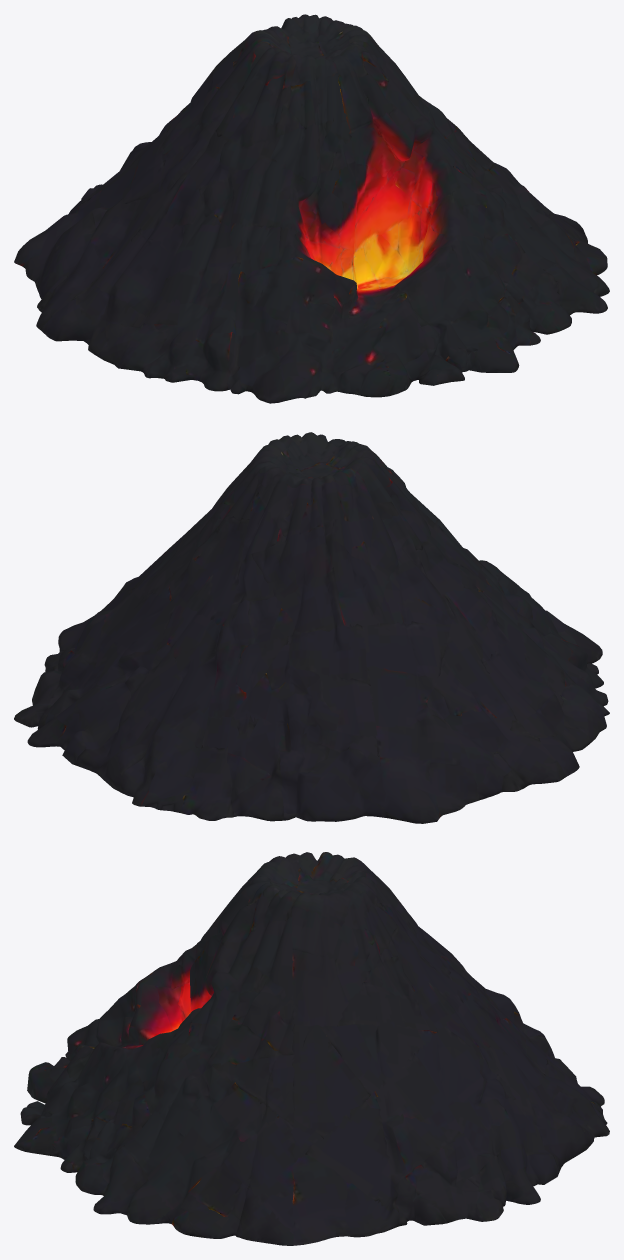
The model's file is volcano_hero.glb.
3 views of the same model, one above another, from view 1: azimuth 30°, elevation 25°; view 2: azimuth 150°, elevation 25°; view 3: azimuth 270°, elevation 25° (orthographic). The views are drawn at different scales.
Size of the model in its own units: 1.9 by 0.8556 by 1.88.
1 material, 1 textured.
